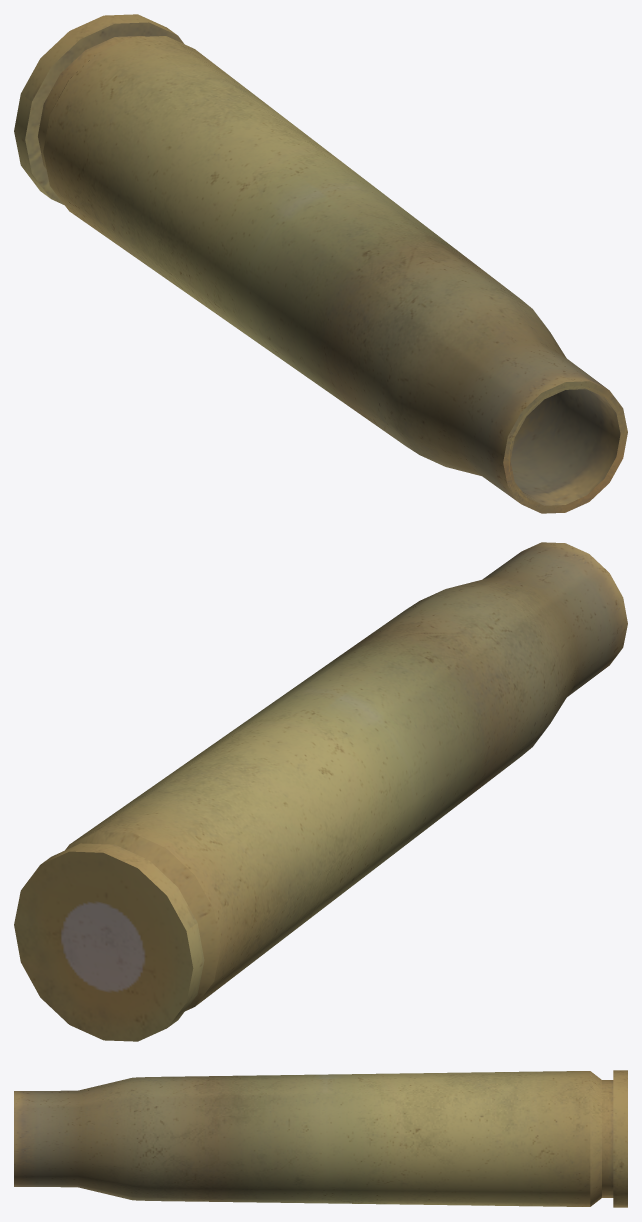
The model's file is 556_Casing.FBX.
3 renders of one model, top to bottom at view 1: azimuth 30°, elevation 25°; view 2: azimuth 150°, elevation 25°; view 3: azimuth 270°, elevation 25°, orthographic. The views are drawn at different scales.
Parts seen in each view (by area): view 1: RND_556; view 2: RND_556; view 3: RND_556.
Boxes of the visible parts, left/top/right/bottom form: RND_556: left=14, top=14, right=627, bottom=513; RND_556: left=14, top=542, right=627, bottom=1041; RND_556: left=14, top=1070, right=627, bottom=1207.
Bounding box in the file's own units: 0.9826 × 0.9826 × 4.38.
